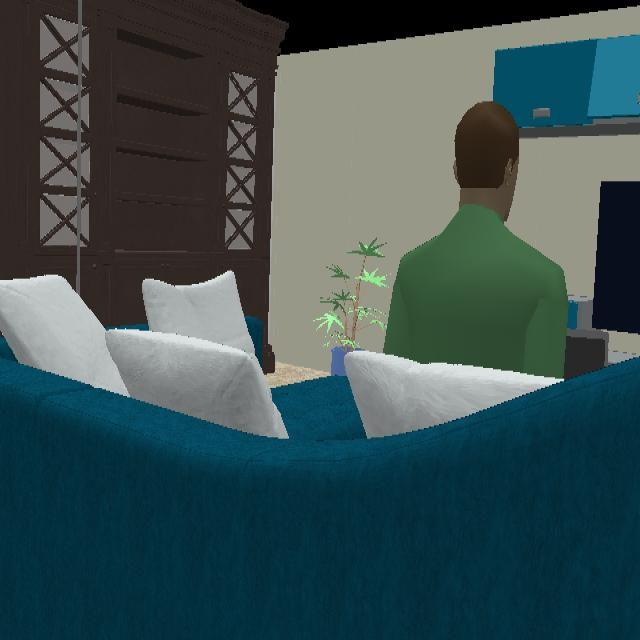cabinet: (492, 36, 640, 138)
monitor: (592, 182, 640, 332)
person: (384, 103, 568, 378)
pillow: (105, 330, 288, 438), (345, 350, 561, 438), (0, 275, 129, 396), (142, 270, 254, 354)
sofa: (0, 359, 640, 638)
